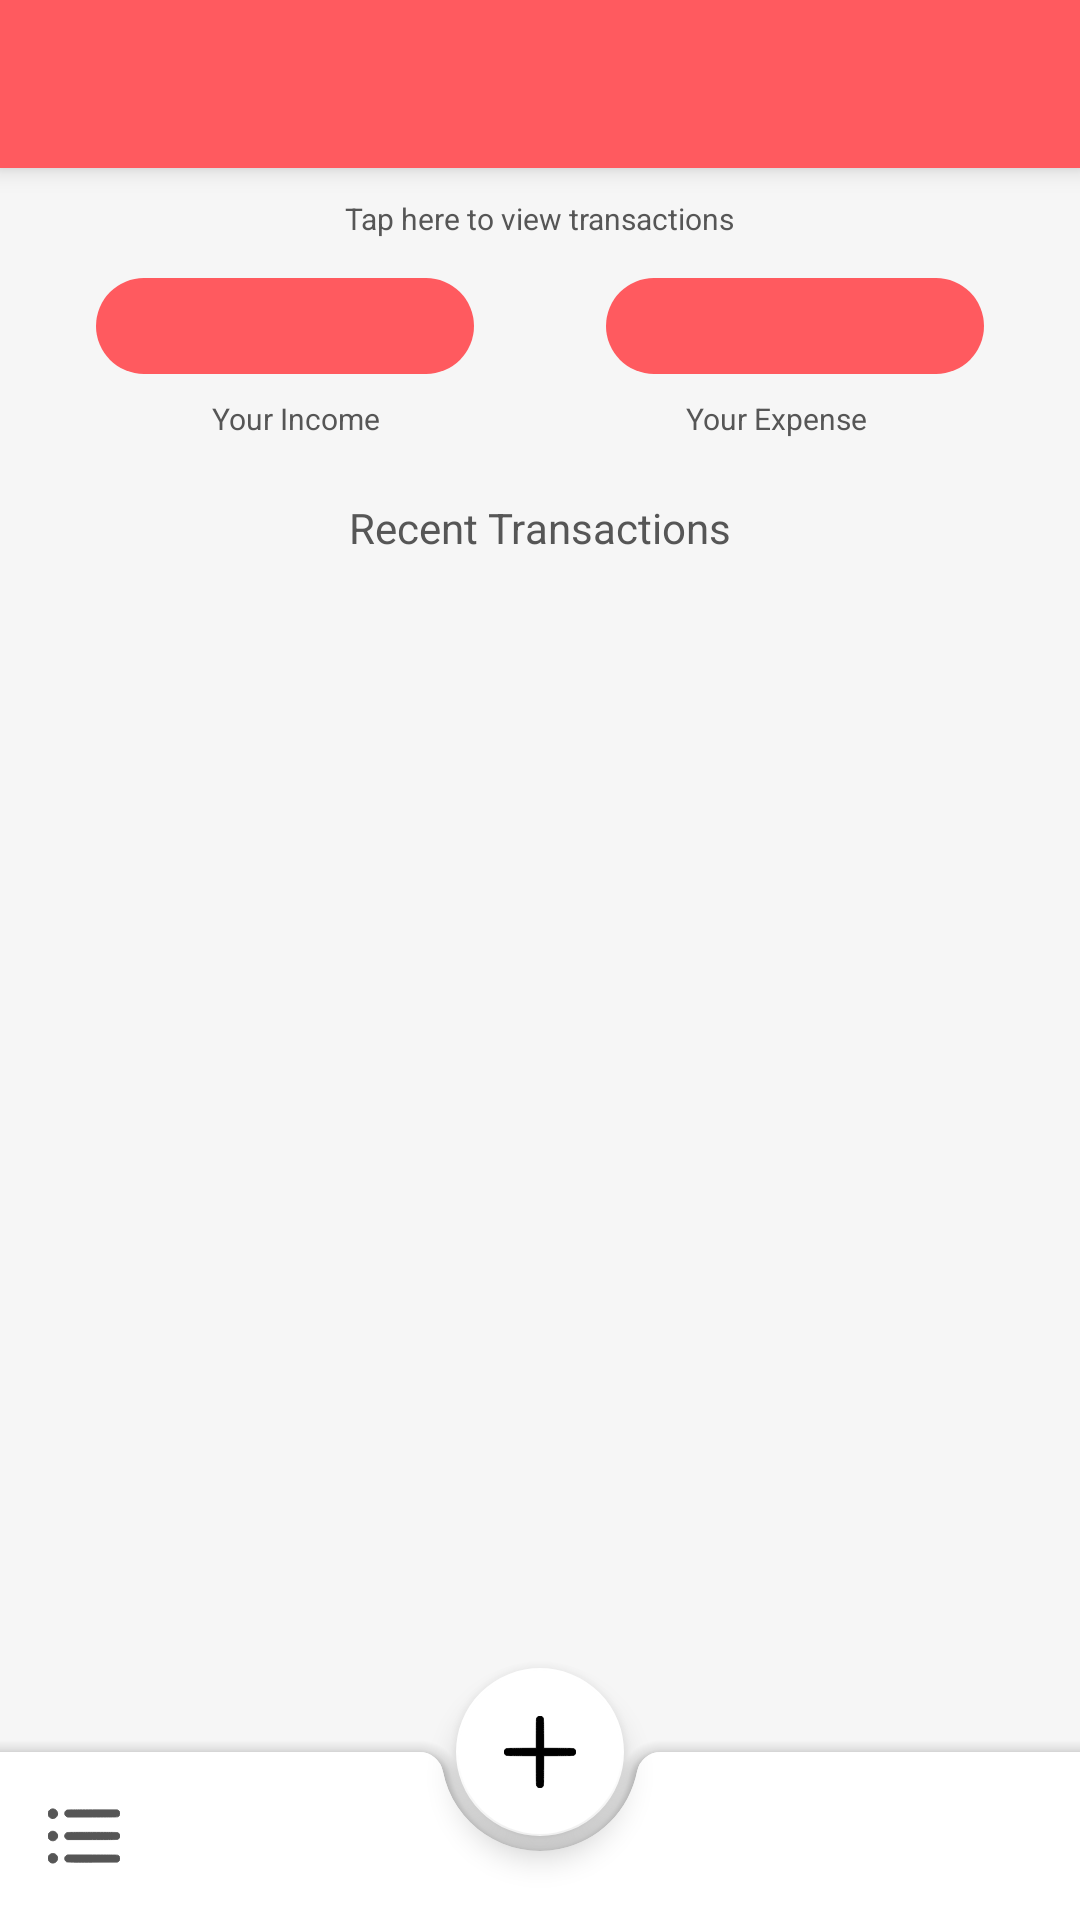

Where icons sit on this 1080*1920 app screen, as box=[x1, y1, x2, y2]:
add: box=[456, 1668, 624, 1836]
